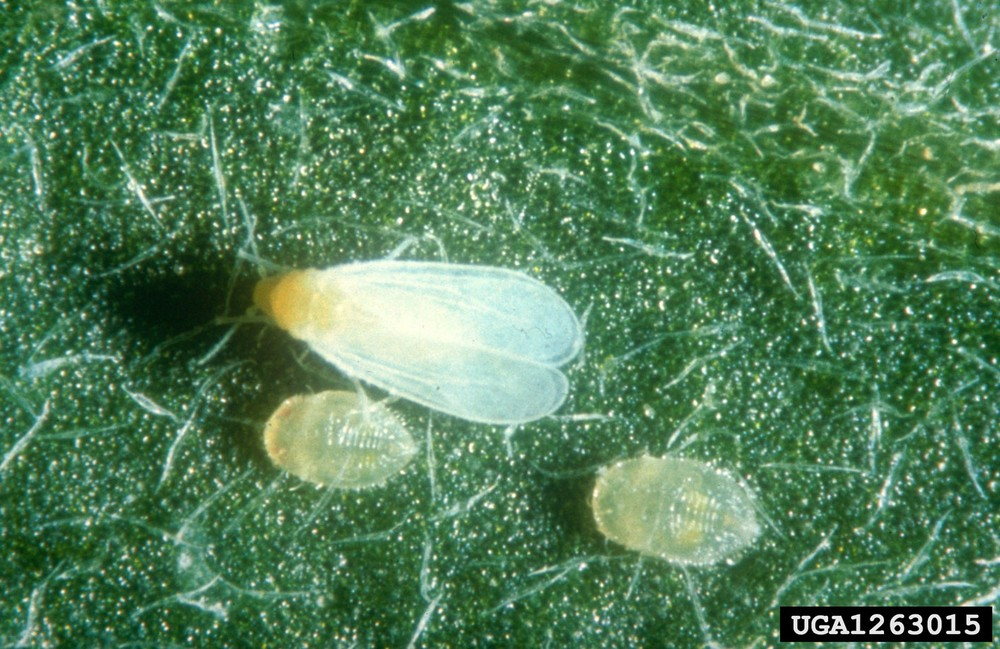Mosca Blanca: (204, 235, 603, 436)
